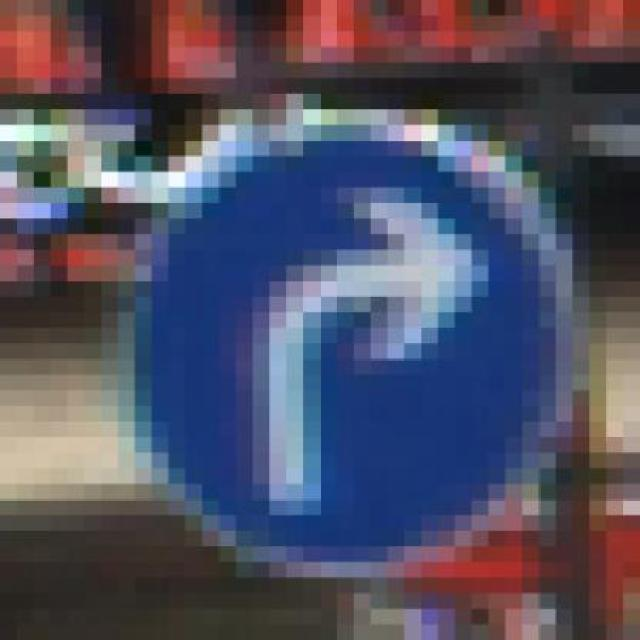Turn right ahead: (118, 108, 573, 578)
